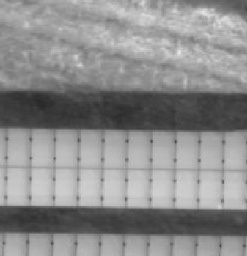solar: (3, 125, 33, 168), (28, 125, 58, 168), (52, 125, 82, 168), (75, 125, 105, 168), (99, 127, 129, 170), (123, 127, 153, 170), (148, 127, 178, 170), (172, 129, 202, 172), (197, 129, 227, 172), (217, 129, 247, 172), (3, 164, 33, 207), (26, 164, 56, 207), (51, 164, 81, 207), (75, 164, 105, 207), (99, 164, 129, 207), (124, 165, 154, 208), (148, 165, 178, 208), (171, 165, 201, 208), (196, 165, 226, 208), (217, 165, 247, 208)
